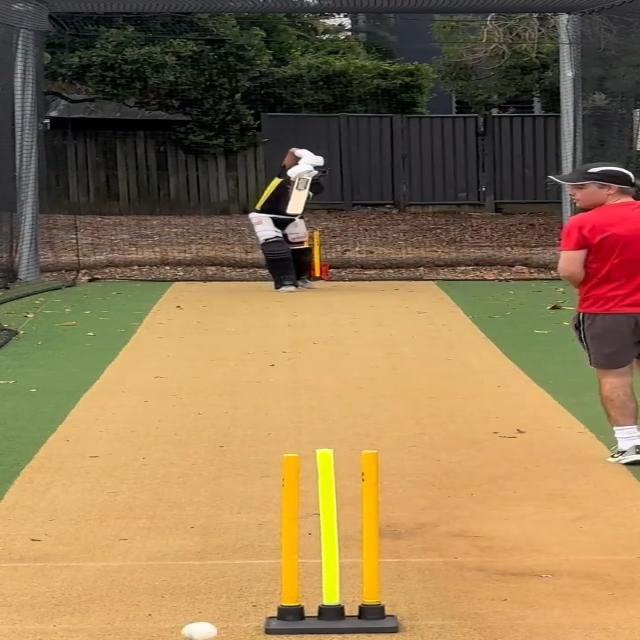ball: (176, 618, 218, 640)
stump: (262, 445, 401, 633)
